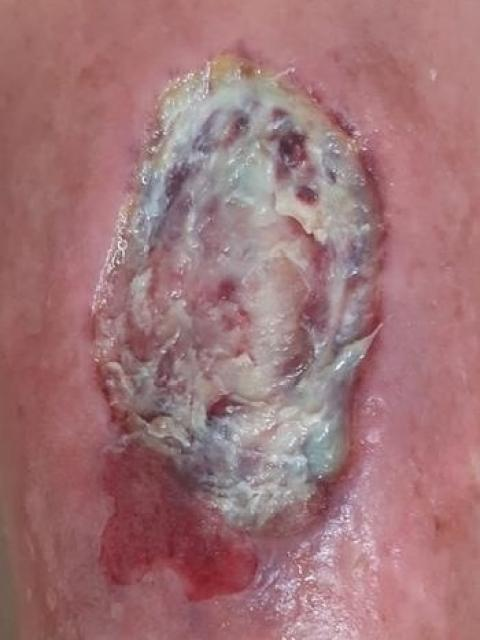wound: (90, 47, 395, 602)
